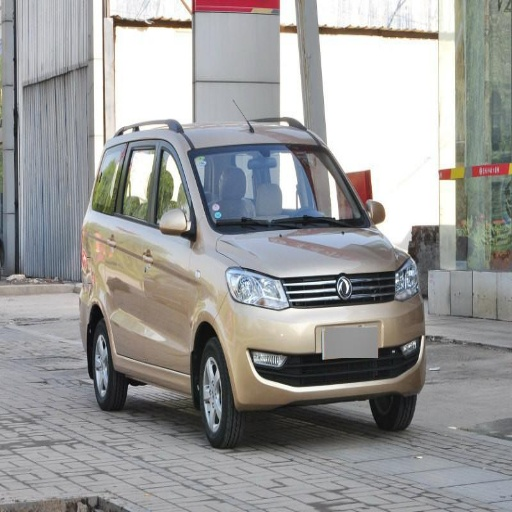front_bumper: (220, 270, 421, 407)
front_right_door: (134, 140, 196, 370)
front_right_light: (227, 266, 291, 309)
hood: (219, 226, 405, 280)
